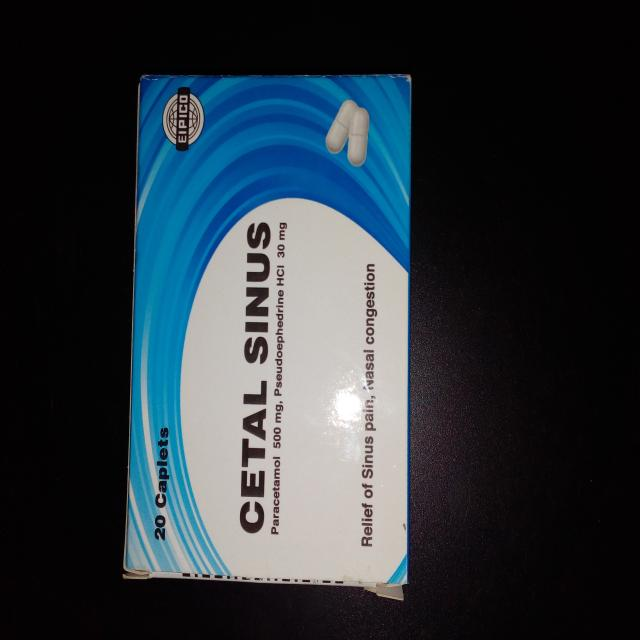Medicine: (116, 67, 424, 598)
